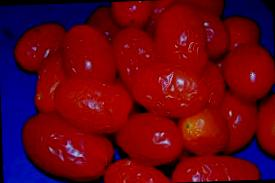Grape Rotten: (11, 0, 275, 183)
